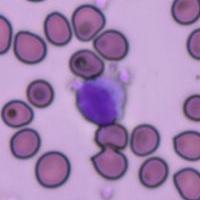L: (75, 75, 126, 126)
